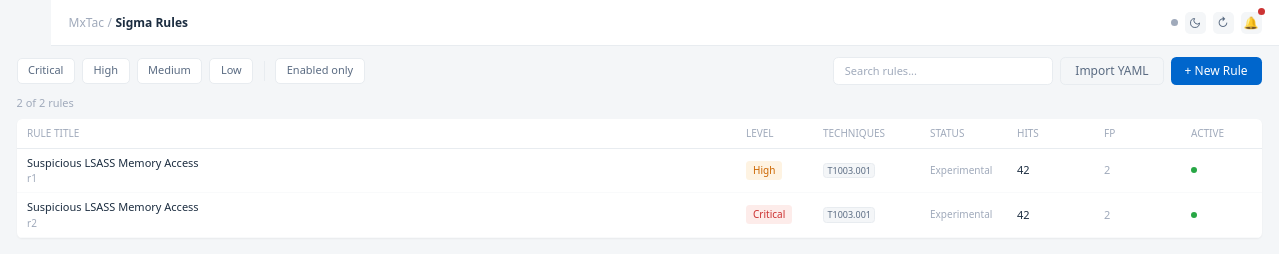
Test: RulesPage › stats counter › reflects filtered count after applying a level filter
Expected: the text "2 of 2 rules" is shown, [16, 95, 74, 110]
Click the button "critical". click: {"x": 46, "y": 70}
box: [16, 58, 75, 84]
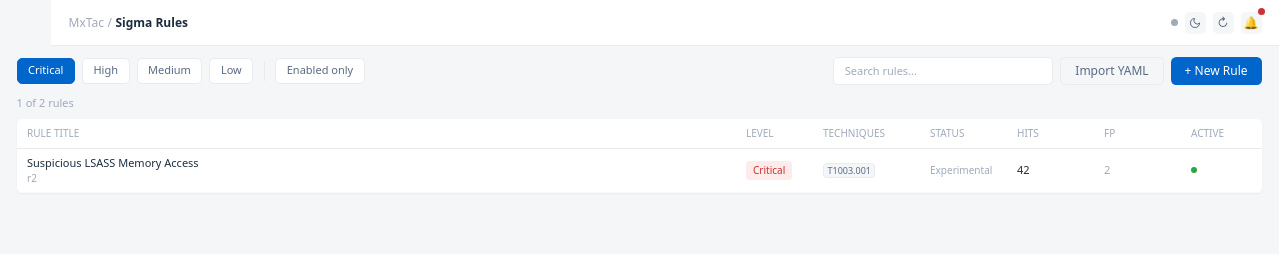
Now the text "1 of 2 rules" is shown, box [16, 95, 74, 110]
